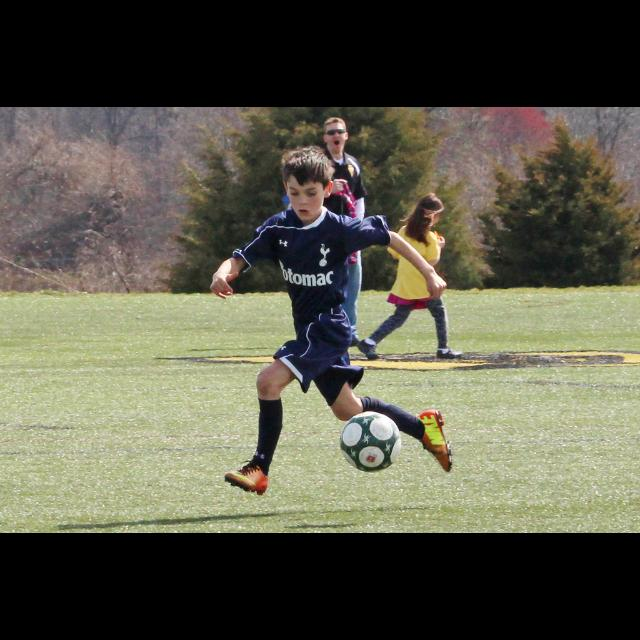Football: (338, 412, 398, 471)
